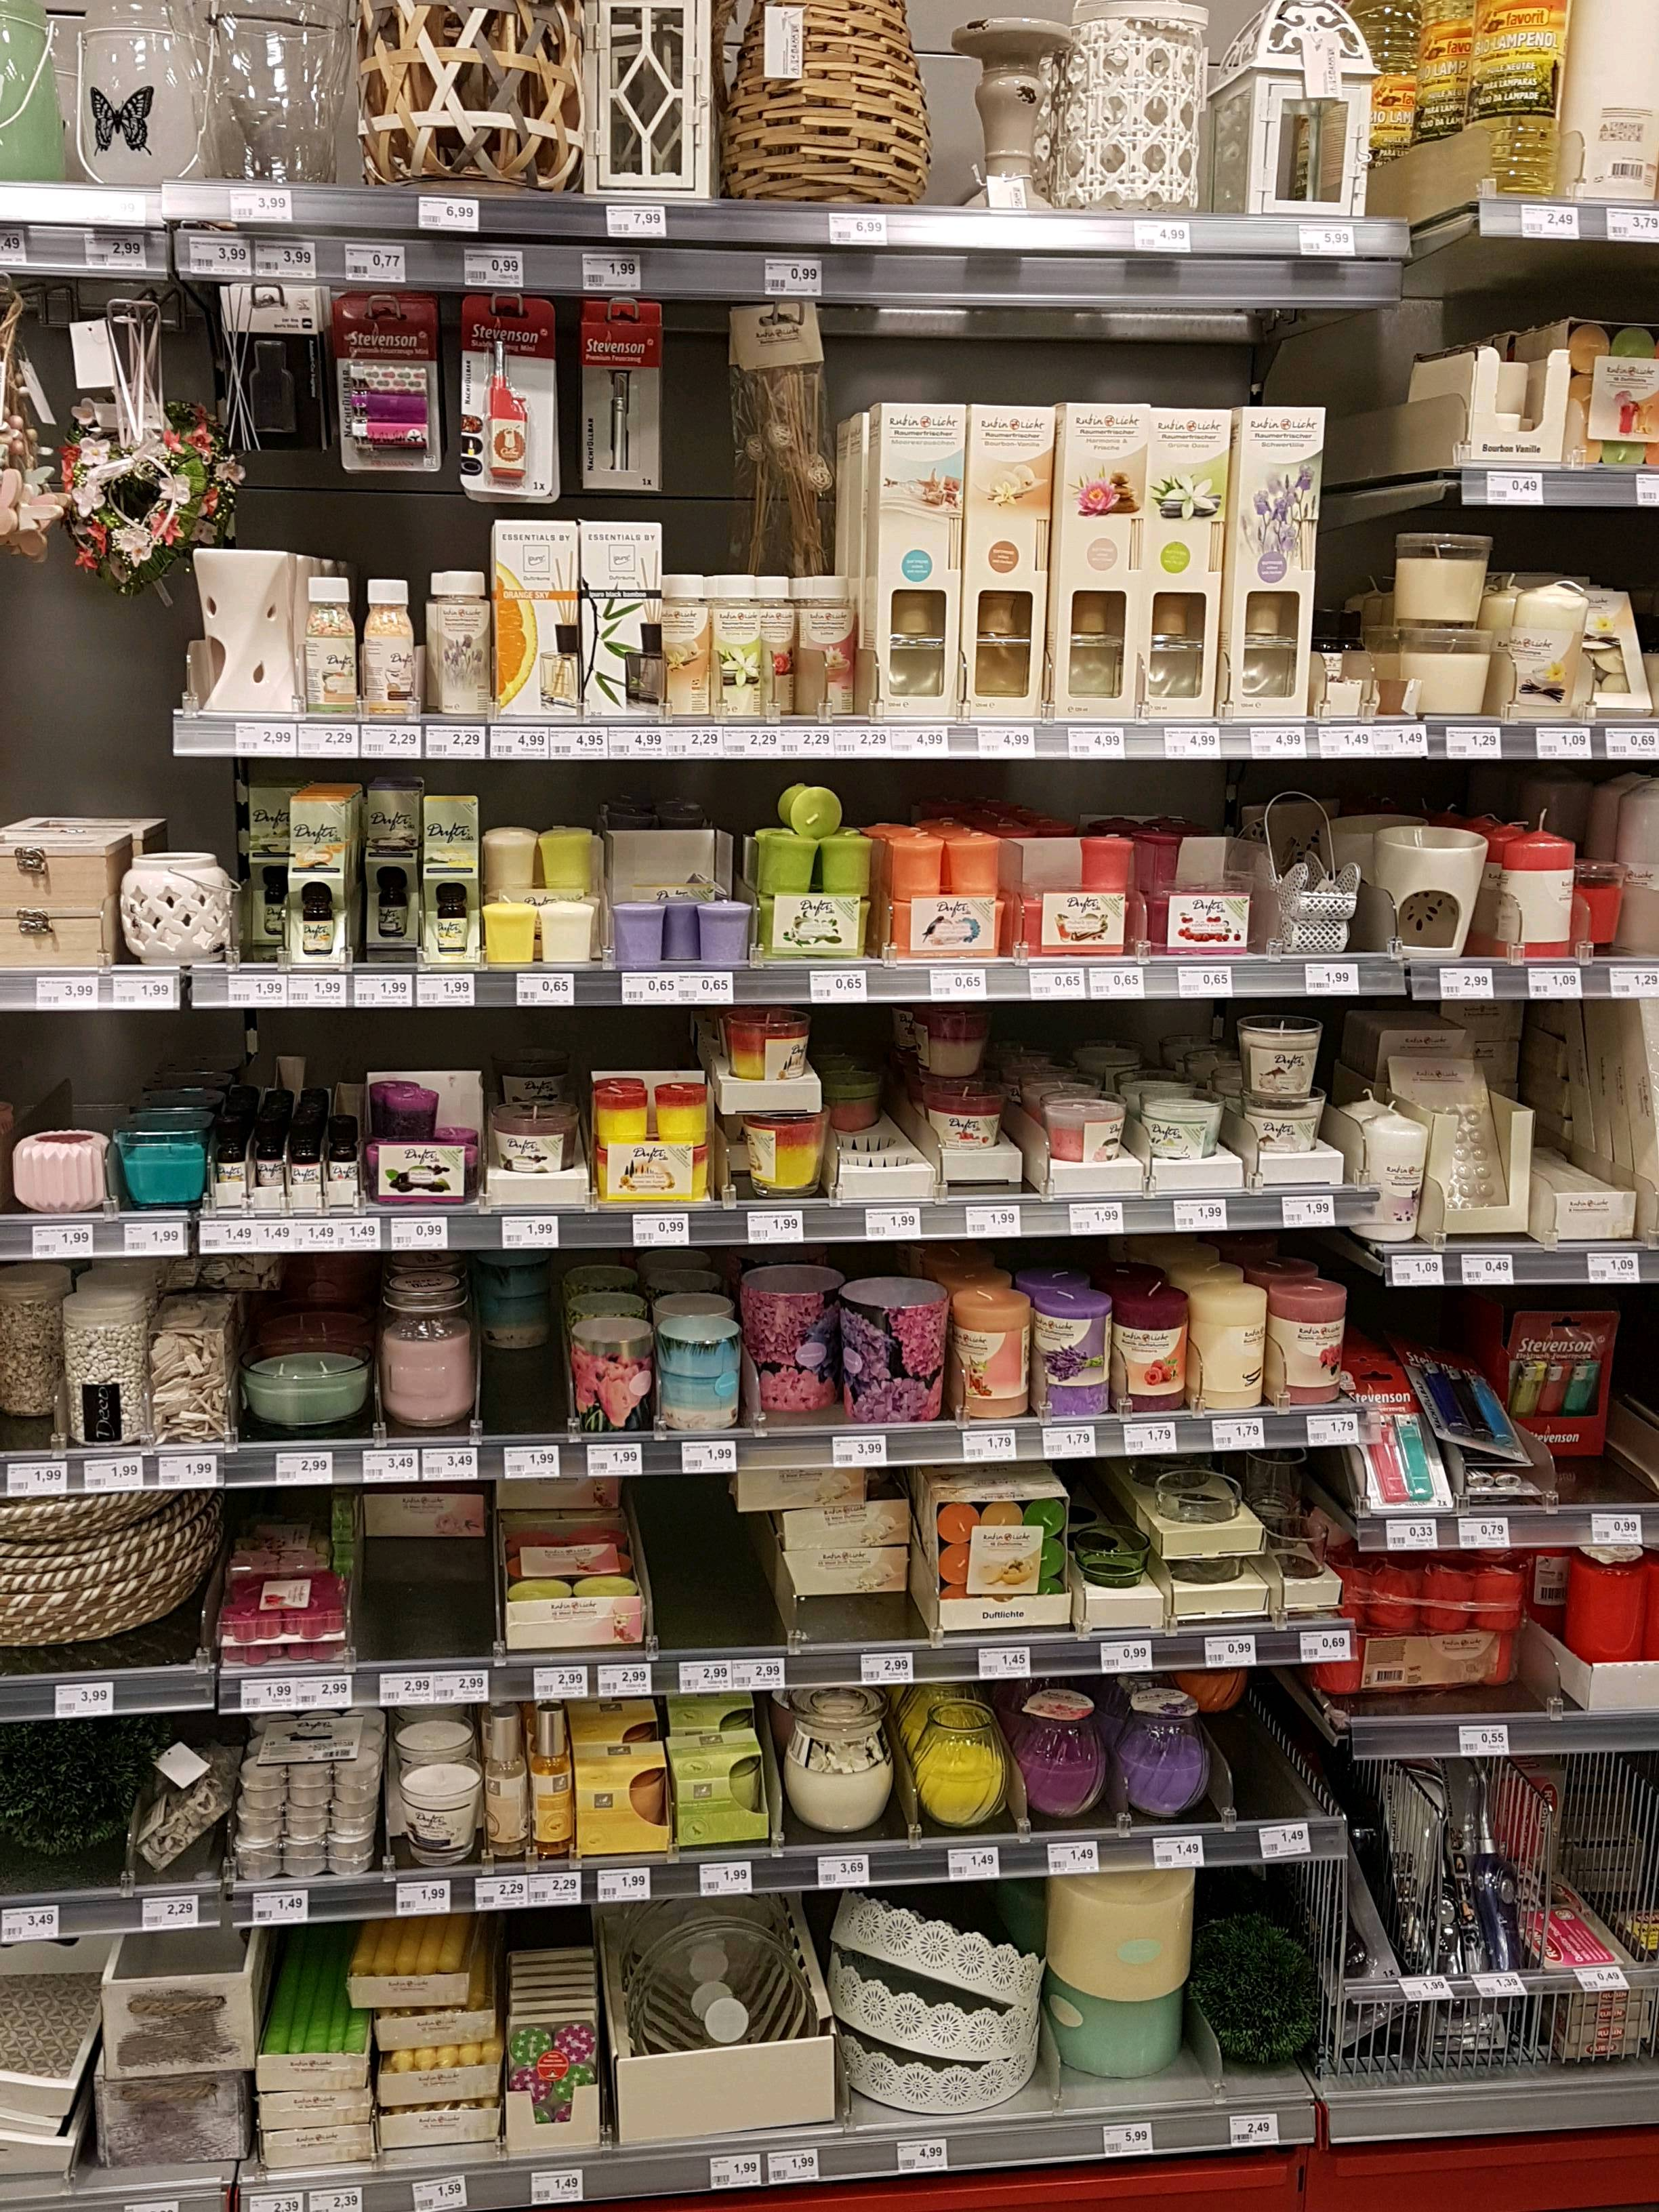Misplacement: (361, 1482, 497, 1660)
Out-of-stock: (648, 1477, 789, 1651)
